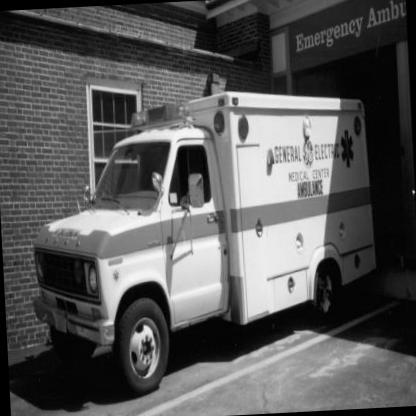ambulance: (22, 53, 404, 408)
